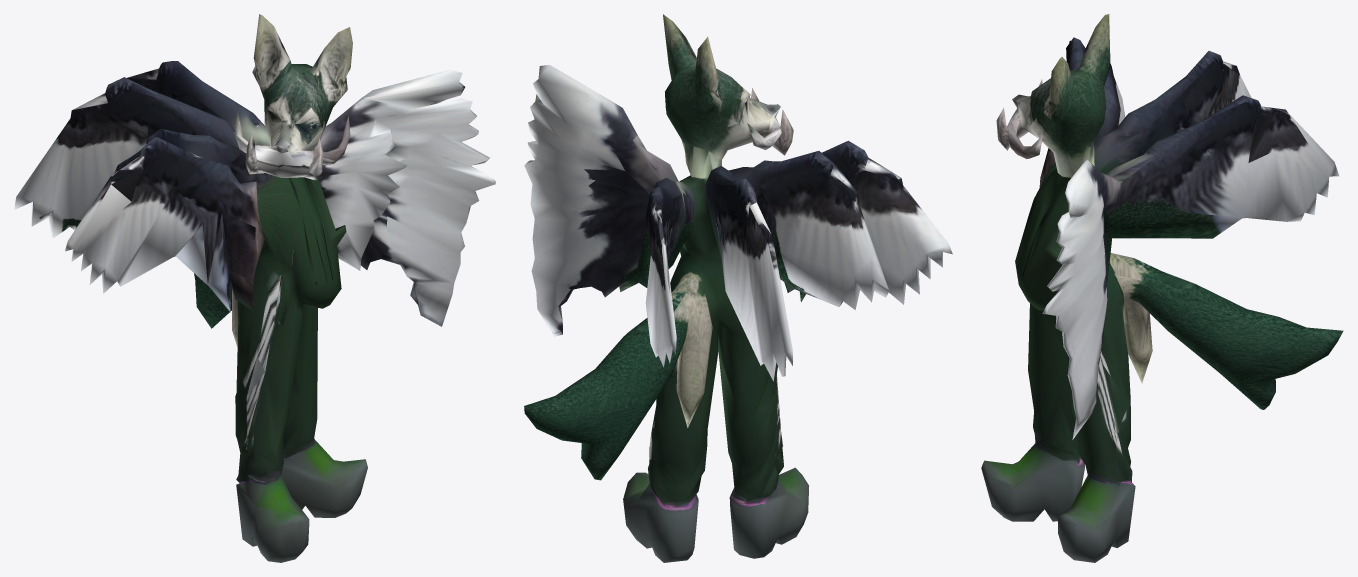
File: CHIMERA.glb
The picture shows the model from 3 angles, left to right: view 1: azimuth 30°, elevation 25°; view 2: azimuth 150°, elevation 25°; view 3: azimuth 270°, elevation 25°; orthographic projection. The views are drawn at different scales.
Visible parts, largest first — view 1: node_0; view 2: node_0; view 3: node_0.
Boxes of the visible parts, x1,y1,x2,y2 form: node_0: [14, 14, 495, 562]; node_0: [524, 14, 952, 562]; node_0: [981, 14, 1343, 562].
Size of the model in its own units: 0.6367 by 0.7292 by 0.4679.
1 material, 1 textured.
